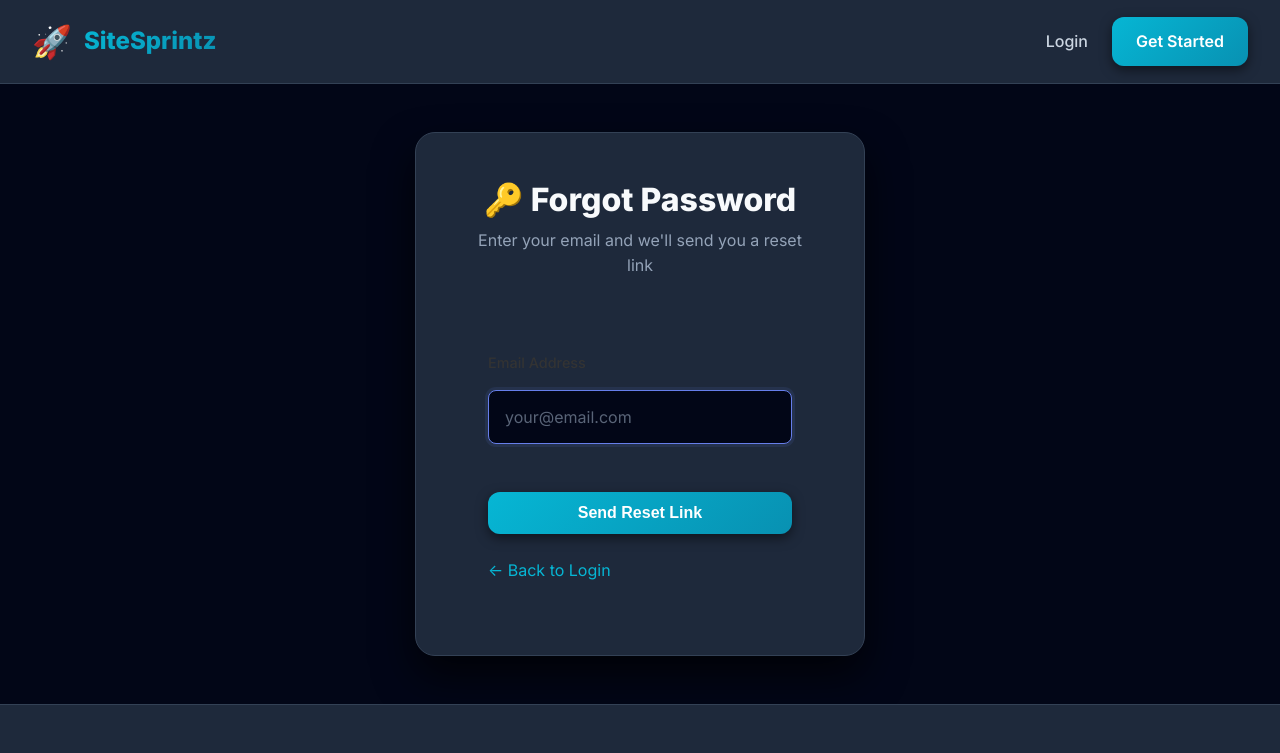
Test case: ForgotPassword Component › should disable button during submission
Type "test@example.com" into the field labelled "Email Address" at [640, 417], box [488,390,792,444]
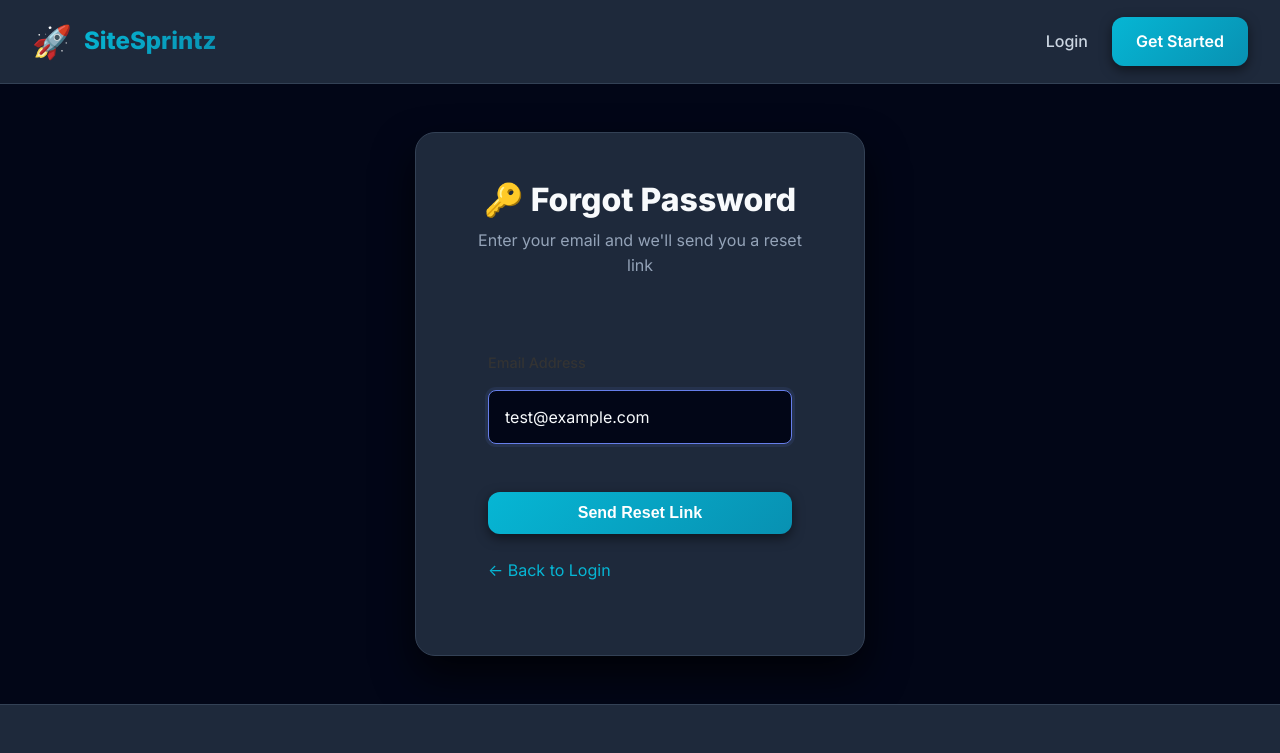
Click the button "Send Reset Link" at [640, 513], box [488,492,792,534]
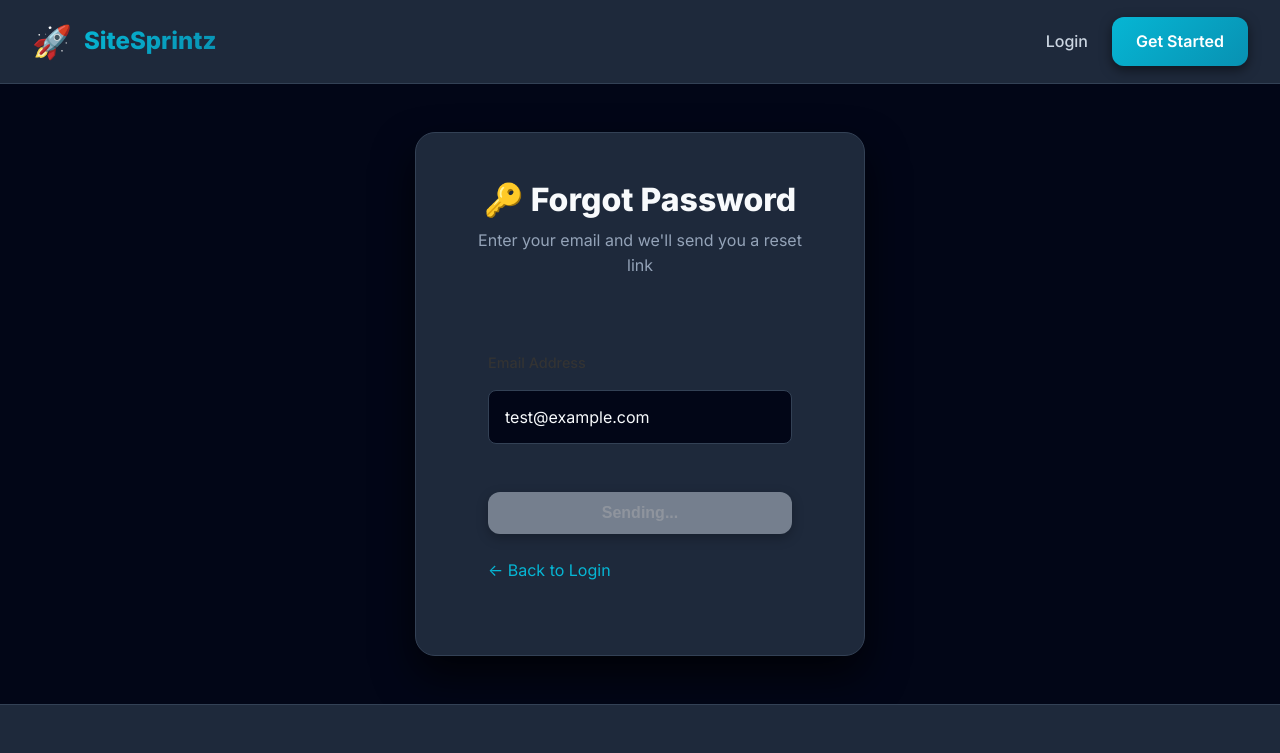
Expected: the button "Sending..." is disabled, [488,492,792,534]
